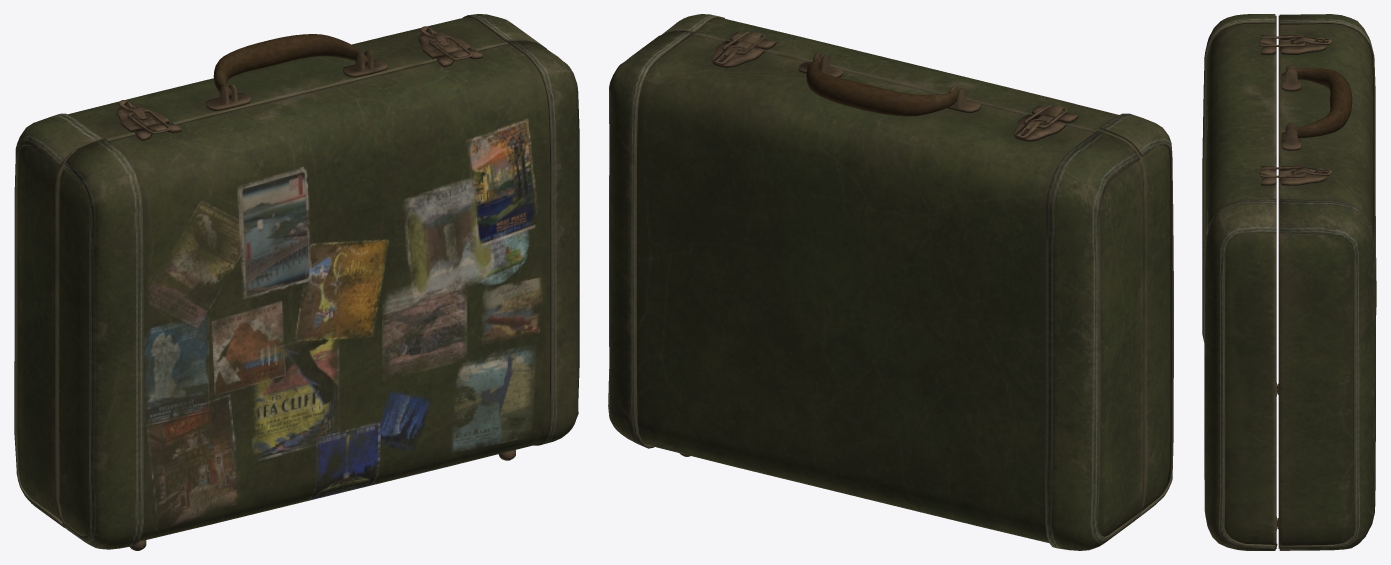
The model's file is vintage-suitcase-stickers.glb.
3 views of the same model, side by side, from view 1: azimuth 30°, elevation 25°; view 2: azimuth 150°, elevation 25°; view 3: azimuth 270°, elevation 25° (orthographic). The views are drawn at different scales.
Parts seen in each view (by area): view 1: vintage_suitcase_02_top, vintage_suitcase_02_bottom, vintage_suitcase_02_handle; view 2: vintage_suitcase_02_bottom, vintage_suitcase_02_top, vintage_suitcase_02_handle; view 3: vintage_suitcase_02_bottom, vintage_suitcase_02_top, vintage_suitcase_02_handle, vintage_suitcase_02_clasp.
Part boxes in pixels (bbox=[...]): vintage_suitcase_02_top: bbox=[57, 40, 579, 550]; vintage_suitcase_02_bottom: bbox=[14, 14, 546, 528]; vintage_suitcase_02_handle: bbox=[213, 34, 367, 98]; vintage_suitcase_02_bottom: bbox=[608, 32, 1144, 550]; vintage_suitcase_02_top: bbox=[662, 14, 1173, 519]; vintage_suitcase_02_handle: bbox=[806, 57, 958, 116]; vintage_suitcase_02_bottom: bbox=[1277, 14, 1376, 550]; vintage_suitcase_02_top: bbox=[1202, 14, 1278, 550]; vintage_suitcase_02_handle: bbox=[1294, 68, 1352, 138]; vintage_suitcase_02_clasp: bbox=[1259, 35, 1305, 177].
Bounding box in the file's own units: 0.6938 × 0.5679 × 0.2392.
1 material, 1 textured.
